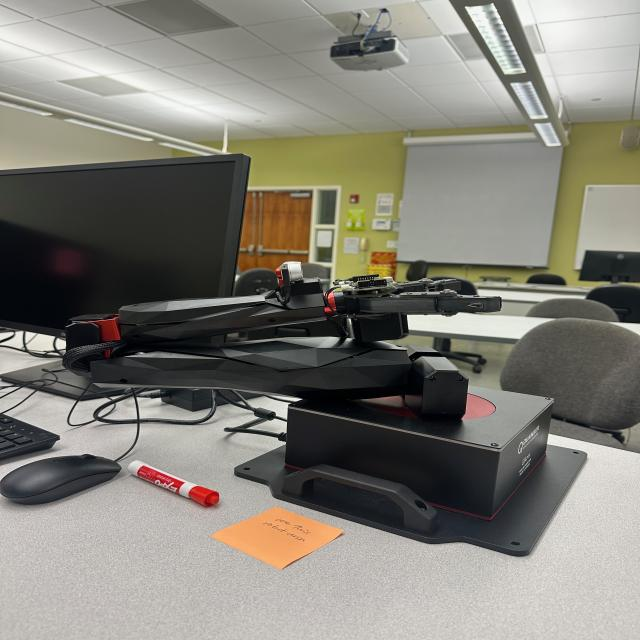monitor: (1, 166, 246, 340)
robotic-arm: (62, 274, 508, 420)
